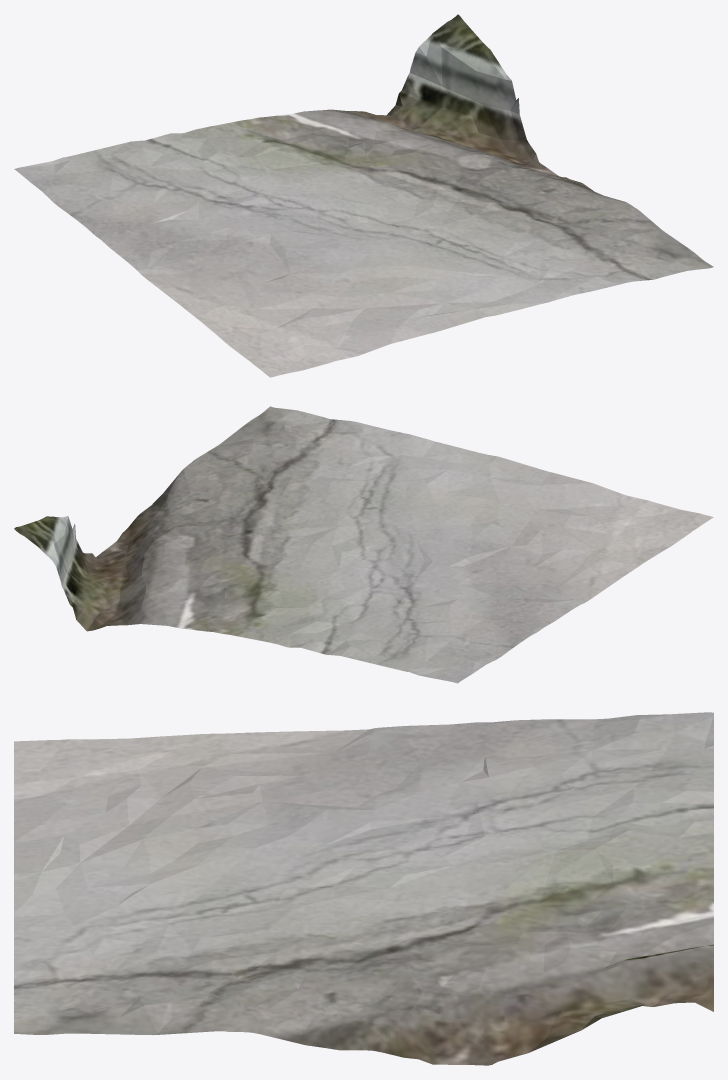
3 renders of one model, top to bottom at view 1: azimuth 30°, elevation 25°; view 2: azimuth 150°, elevation 25°; view 3: azimuth 270°, elevation 25°, orthographic. The views are drawn at different scales.
Bounding box in the file's own units: 2.95 × 0.5629 × 2.95.
2 materials, 2 textured.
